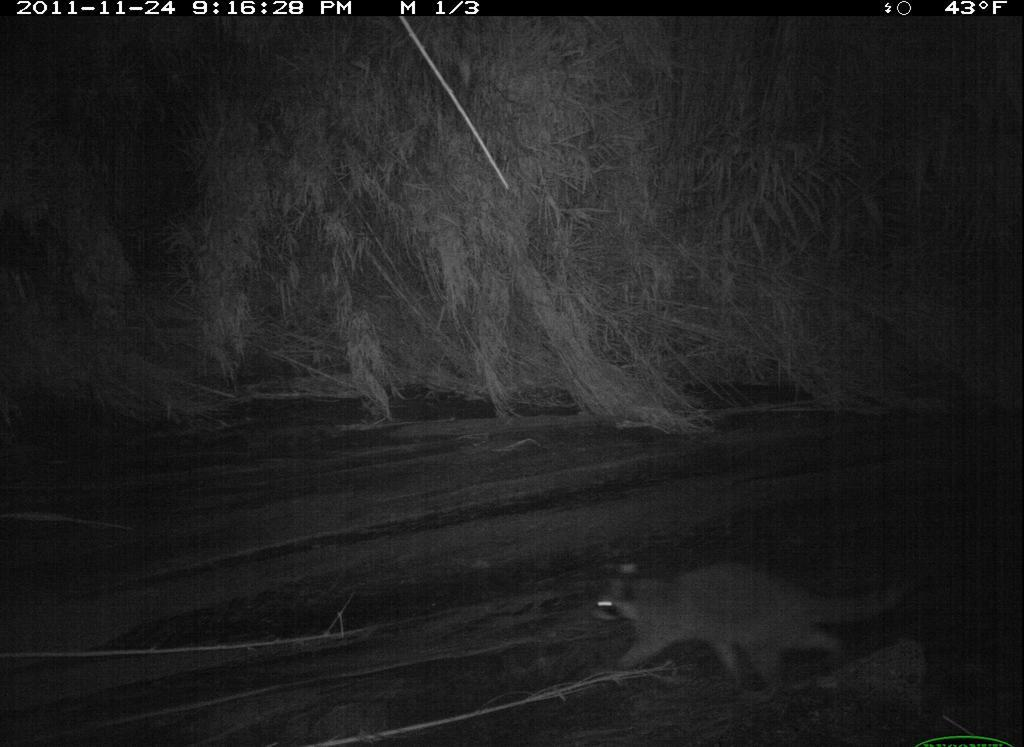raccoon: (584, 555, 925, 706)
